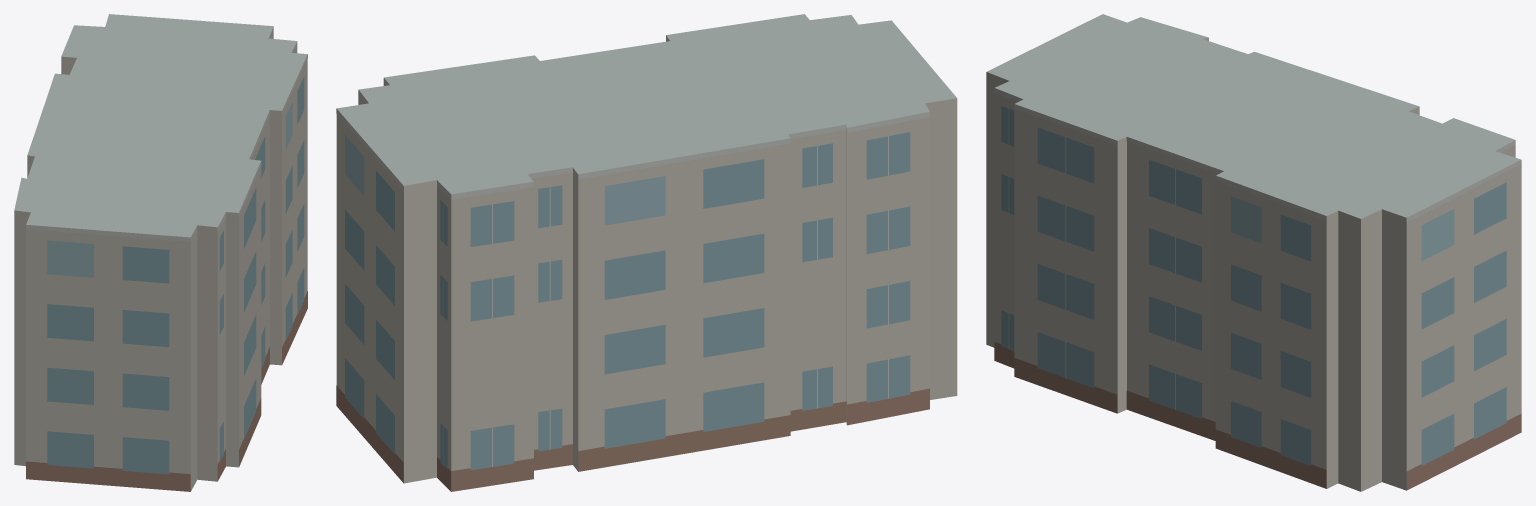
Rendered from survey-upis-32717594.glb.
The picture shows the model from 3 angles, left to right: view 1: azimuth 30°, elevation 25°; view 2: azimuth 150°, elevation 25°; view 3: azimuth 270°, elevation 25°; orthographic projection. The views are drawn at different scales.
Parts seen in each view (by area): view 1: survey-upis-32717594.tmp; view 2: survey-upis-32717594.tmp; view 3: survey-upis-32717594.tmp.
Part boxes in pixels (box(x1,y1,x2,y2)): survey-upis-32717594.tmp: box(14, 14, 307, 491); survey-upis-32717594.tmp: box(336, 14, 957, 491); survey-upis-32717594.tmp: box(986, 14, 1521, 491).
Size of the model in its own units: 22.47 by 13.94 by 24.78.
